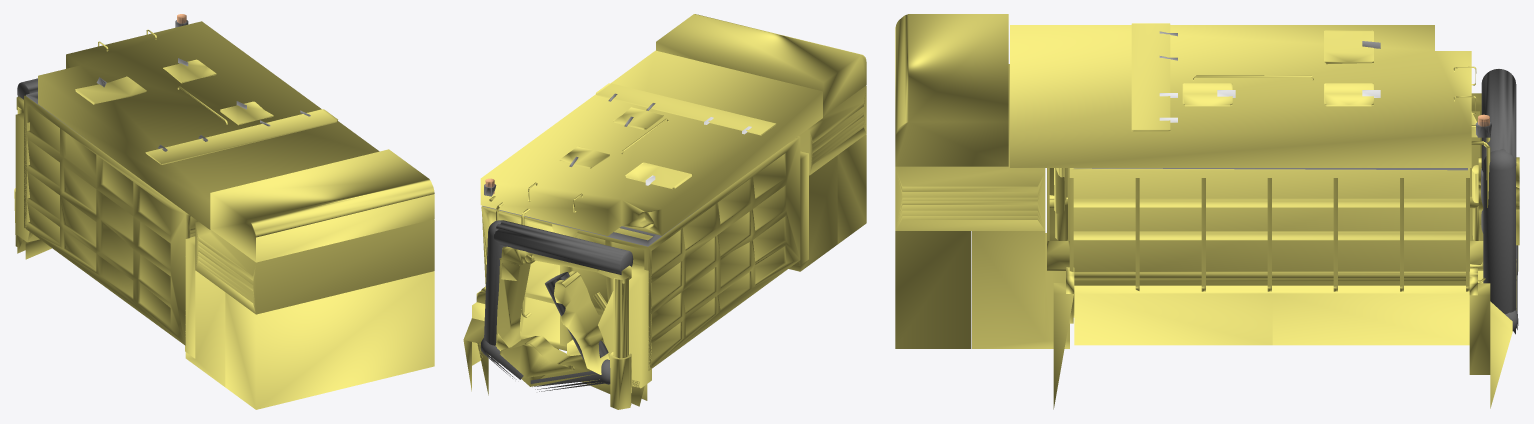
File: sturno-aspiratrice.cuve.glb
3 renders of one model, left to right at view 1: azimuth 30°, elevation 25°; view 2: azimuth 150°, elevation 25°; view 3: azimuth 270°, elevation 25°, orthographic. The views are drawn at different scales.
Bounding box in the file's own units: 2.52 × 3.1 × 6.11.
